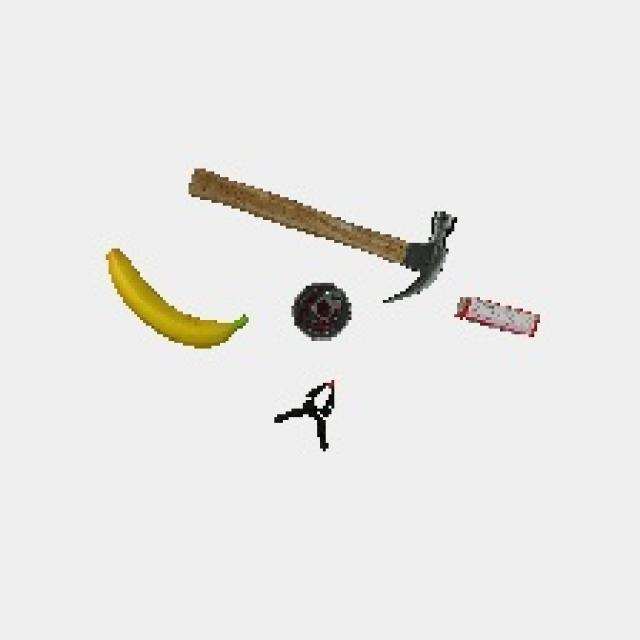Banana: (96, 246, 262, 362)
GelatinBox: (450, 292, 550, 346)
MediumClamp: (269, 373, 351, 460)
TomatoSoupCan: (286, 280, 358, 346)
